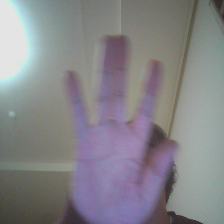hand: (60, 33, 176, 223)
